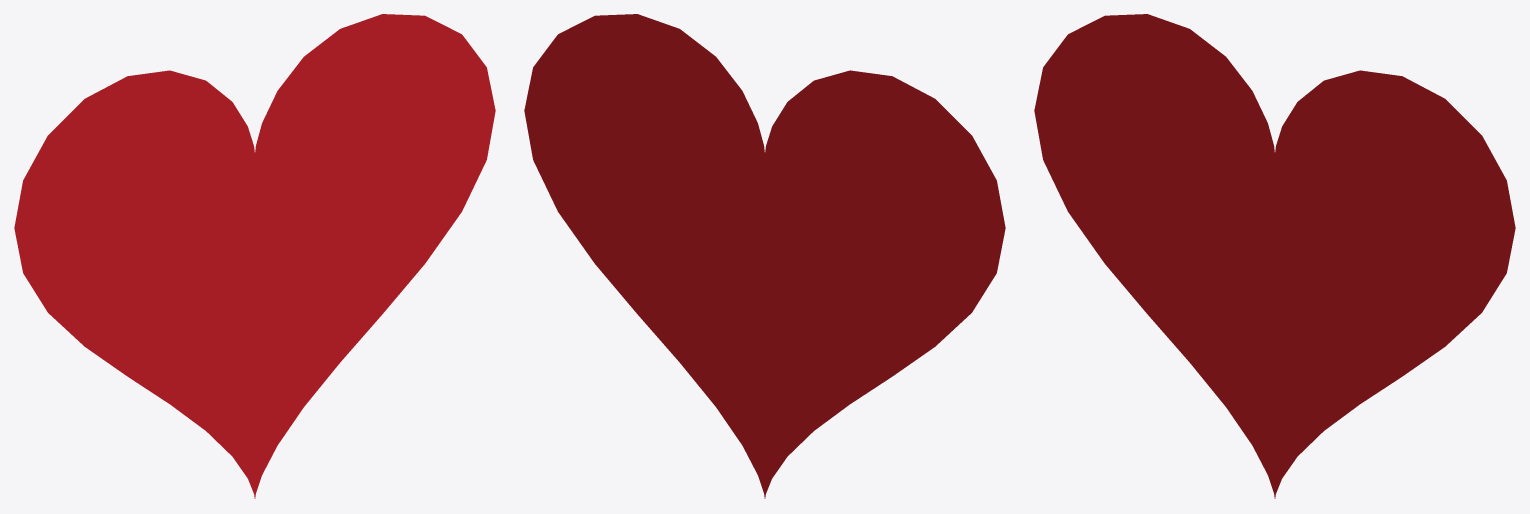
The model's file is heart.glb.
The picture shows the model from 3 angles, left to right: view 1: azimuth 30°, elevation 25°; view 2: azimuth 150°, elevation 25°; view 3: azimuth 330°, elevation 25°; orthographic projection.
Visible parts, largest first — view 1: heart; view 2: heart; view 3: heart.
Boxes of the visible parts, x1,y1,x2,y2 form: heart: (14, 14, 495, 498); heart: (524, 14, 1005, 498); heart: (1034, 14, 1515, 498).
Bounding box in the file's own units: 0.896 × 0.8091 × 0.
